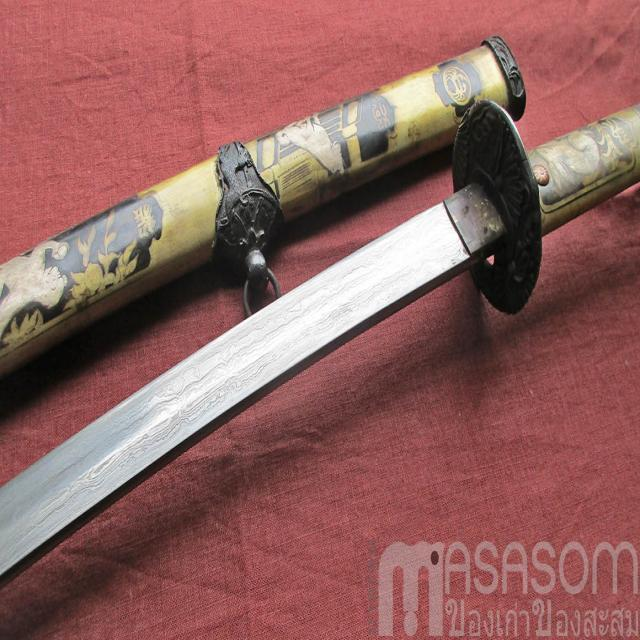long sword: (0, 115, 613, 589)
